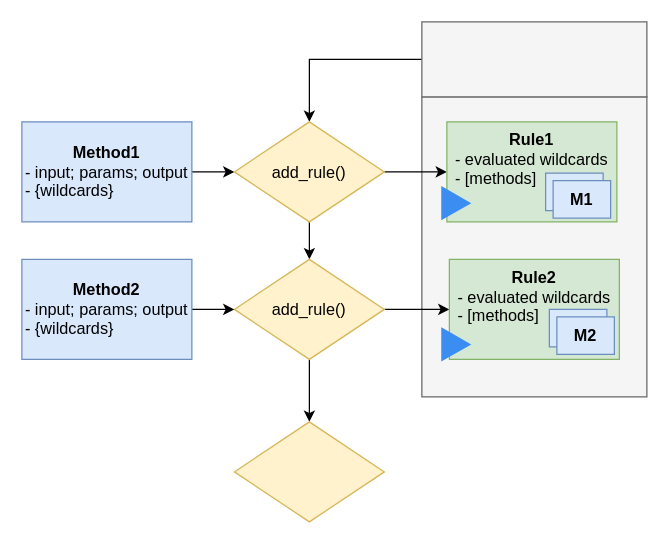
The diagram is 669 pixels wide and 544 high, and some of its shapes have lost their labels. The centre of each missing label's shape, as x and y in pixels:
(dry)run(): the point at 308,471
Workflow ( wildcards , config ): the point at 534,59
